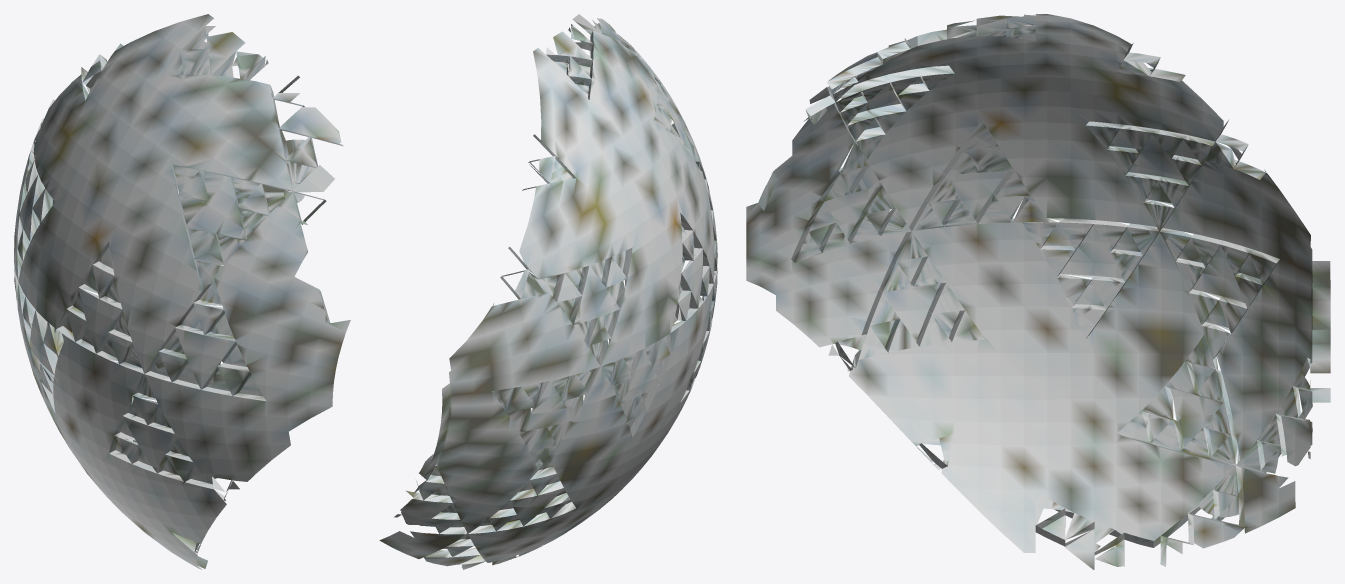
3 renders of one model, left to right at view 1: azimuth 30°, elevation 25°; view 2: azimuth 150°, elevation 25°; view 3: azimuth 270°, elevation 25°, orthographic. The views are drawn at different scales.
Bounding box in the file's own units: 0.317 × 0.8293 × 0.7917.
